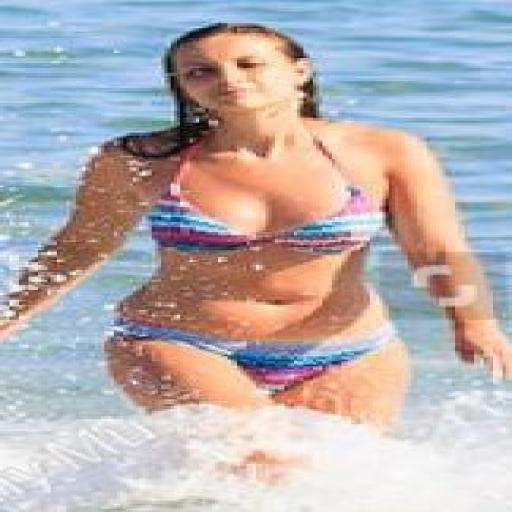person: (0, 24, 511, 430)
